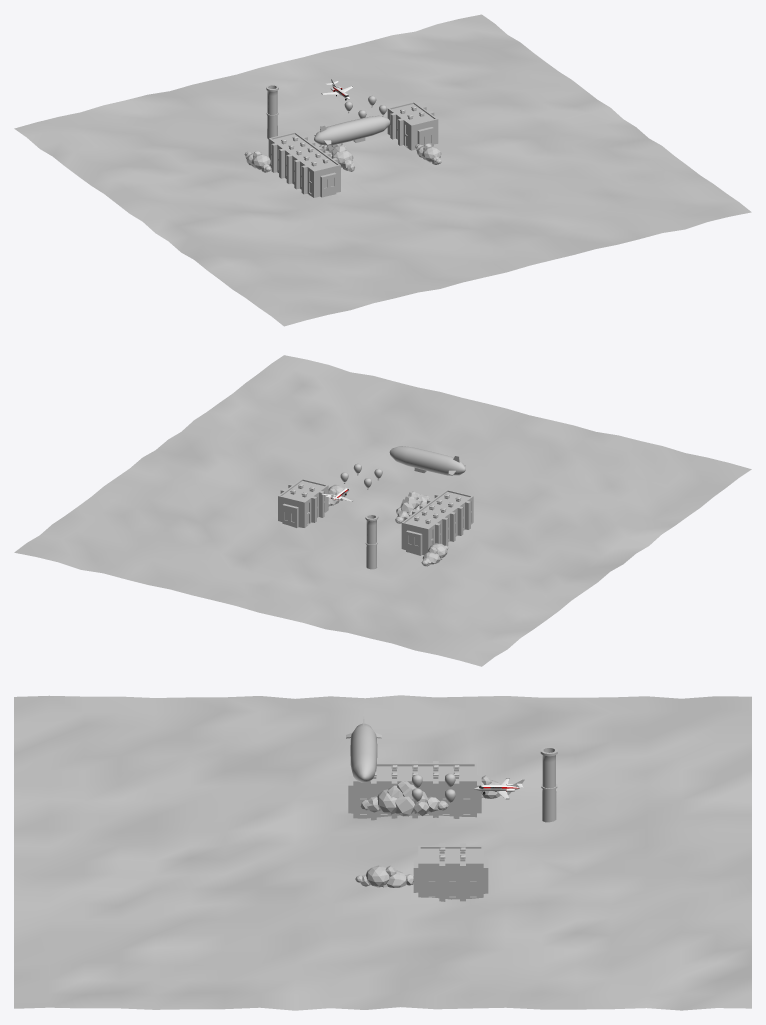
File: changjing8_2.fbx
3 views of the same model, one above another, from view 1: azimuth 30°, elevation 25°; view 2: azimuth 150°, elevation 25°; view 3: azimuth 270°, elevation 25° (orthographic). The views are drawn at different scales.
Visible parts, largest first — view 1: tiankong2, changjing8_2, FeiTing1; view 2: tiankong2, changjing8_2, FeiTing1; view 3: tiankong2, changjing8_2, FeiTing1.
Boxes of the visible parts, x1,y1,x2,y2 form: tiankong2: [14, 14, 751, 326]; changjing8_2: [244, 84, 441, 197]; FeiTing1: [314, 115, 390, 145]; tiankong2: [14, 355, 751, 666]; changjing8_2: [278, 478, 473, 569]; FeiTing1: [389, 446, 465, 475]; tiankong2: [14, 695, 751, 1010]; changjing8_2: [348, 746, 557, 901]; FeiTing1: [346, 716, 381, 782].
Bounding box in the file's own units: 34312 × 8995 × 34312.
